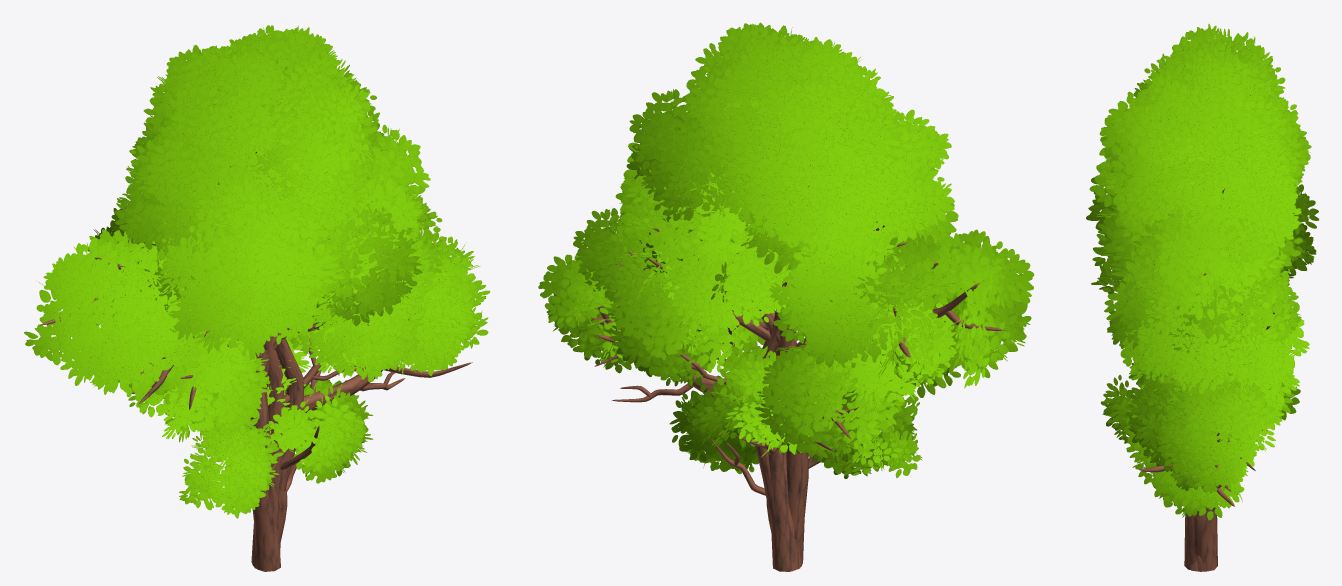
File: trees.glb
3 views of the same model, side by side, from view 1: azimuth 30°, elevation 25°; view 2: azimuth 150°, elevation 25°; view 3: azimuth 270°, elevation 25° (orthographic). The views are drawn at different scales.
Visible parts, largest first — view 1: NormalTree_1, NormalTree_3, NormalTree_2, NormalTree_4, NormalTree_5; view 2: NormalTree_1, NormalTree_4, NormalTree_2, NormalTree_3, NormalTree_5; view 3: NormalTree_1, NormalTree_3, NormalTree_2, NormalTree_4, NormalTree_5.
Part boxes in pixels (left/top/right/bottom): NormalTree_1: left=88, top=25, right=422, bottom=571; NormalTree_3: left=128, top=194, right=490, bottom=505; NormalTree_2: left=93, top=61, right=430, bottom=566; NormalTree_4: left=24, top=169, right=442, bottom=568; NormalTree_5: left=179, top=336, right=373, bottom=541; NormalTree_1: left=626, top=22, right=954, bottom=566; NormalTree_4: left=573, top=193, right=1034, bottom=571; NormalTree_2: left=605, top=27, right=956, bottom=571; NormalTree_3: left=538, top=191, right=958, bottom=570; NormalTree_5: left=669, top=339, right=922, bottom=533; NormalTree_1: left=1104, top=24, right=1319, bottom=570; NormalTree_3: left=1086, top=177, right=1309, bottom=571; NormalTree_2: left=1089, top=84, right=1302, bottom=518; NormalTree_4: left=1120, top=249, right=1301, bottom=571; NormalTree_5: left=1100, top=375, right=1300, bottom=558.
Bounding box in the file's own units: 6.22 × 6.87 × 3.
2 materials, 2 textured.
